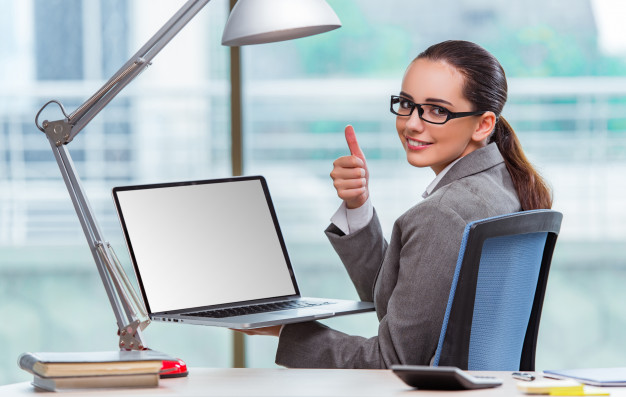thumbsup: (330, 123, 367, 199)
